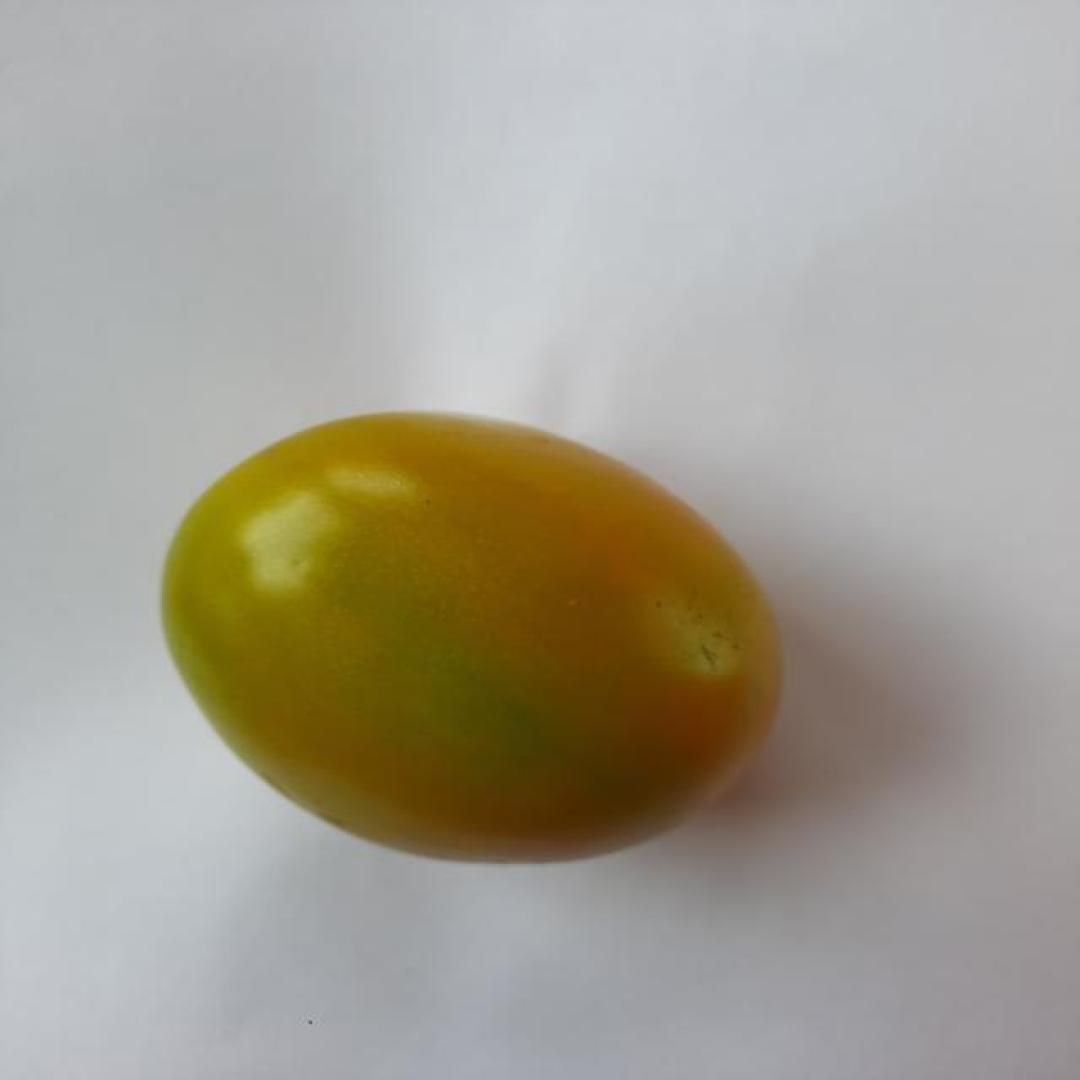setengah_matang: (152, 407, 791, 869)
